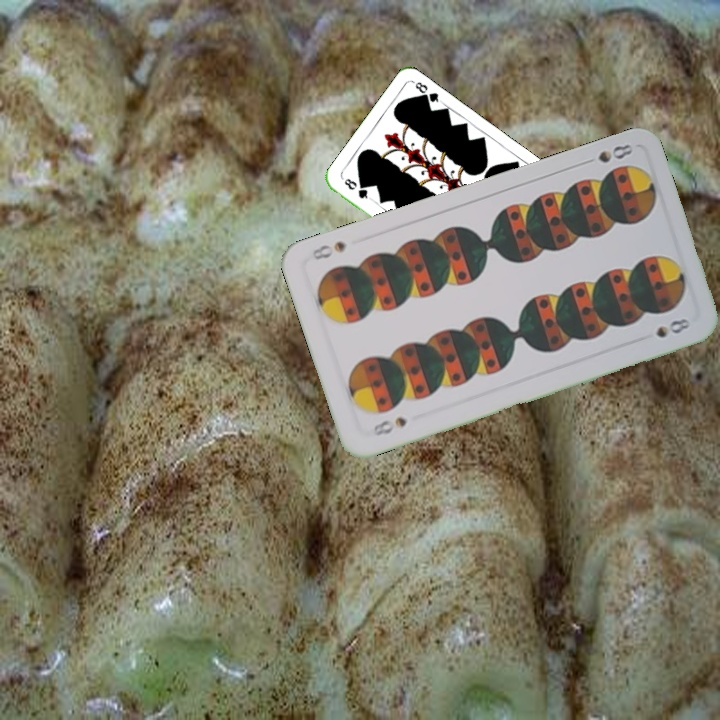G8: (340, 174, 374, 203)
S8: (578, 140, 636, 168), (368, 413, 410, 439)
